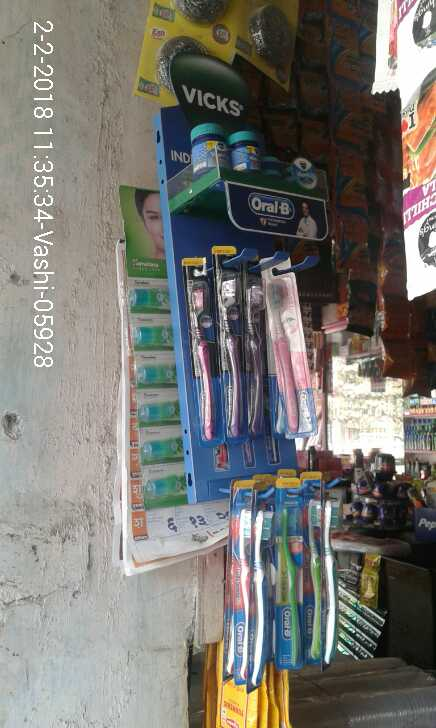pharmacy: (183, 256, 223, 449), (209, 246, 246, 443), (245, 472, 277, 689), (272, 475, 305, 666), (240, 268, 271, 441), (228, 479, 249, 689), (189, 120, 230, 173), (229, 127, 262, 176)
